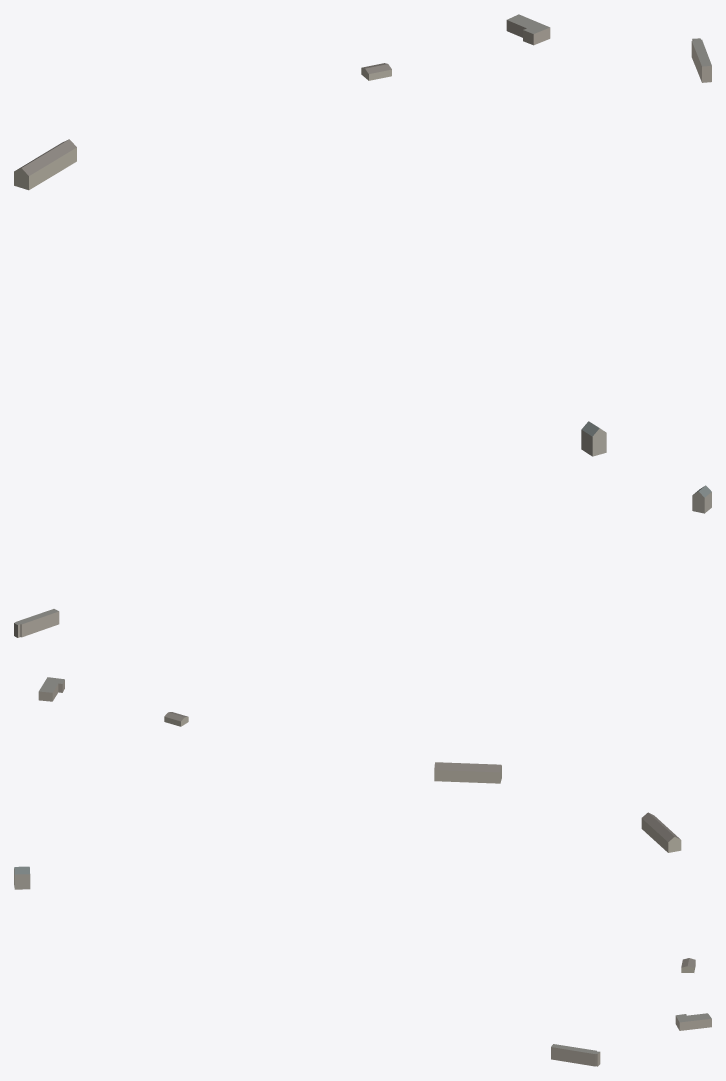
File: 56c313088214-chunk-1195_11844.glb
3 views of the same model, one above another, from view 1: azimuth 30°, elevation 25°; view 2: azimuth 150°, elevation 25°; view 3: azimuth 270°, elevation 25° (orthographic). The views are drawn at different scales.
Visible parts, largest first — view 1: building_100628, building_37870, building_77511; view 2: building_100628, building_140408, building_37870; view 3: building_100628, building_140408, building_37870.
Part boxes in pixels (x1,y1,x2,y2): building_100628: [14, 139, 76, 190]; building_37870: [506, 14, 550, 45]; building_77511: [581, 421, 606, 456]; building_100628: [434, 762, 501, 783]; building_140408: [14, 609, 59, 637]; building_37870: [38, 677, 64, 701]; building_100628: [641, 812, 681, 852]; building_140408: [551, 1044, 600, 1066]; building_37870: [675, 1013, 711, 1030].
Size of the model in its own units: 316 by 12.27 by 388.
